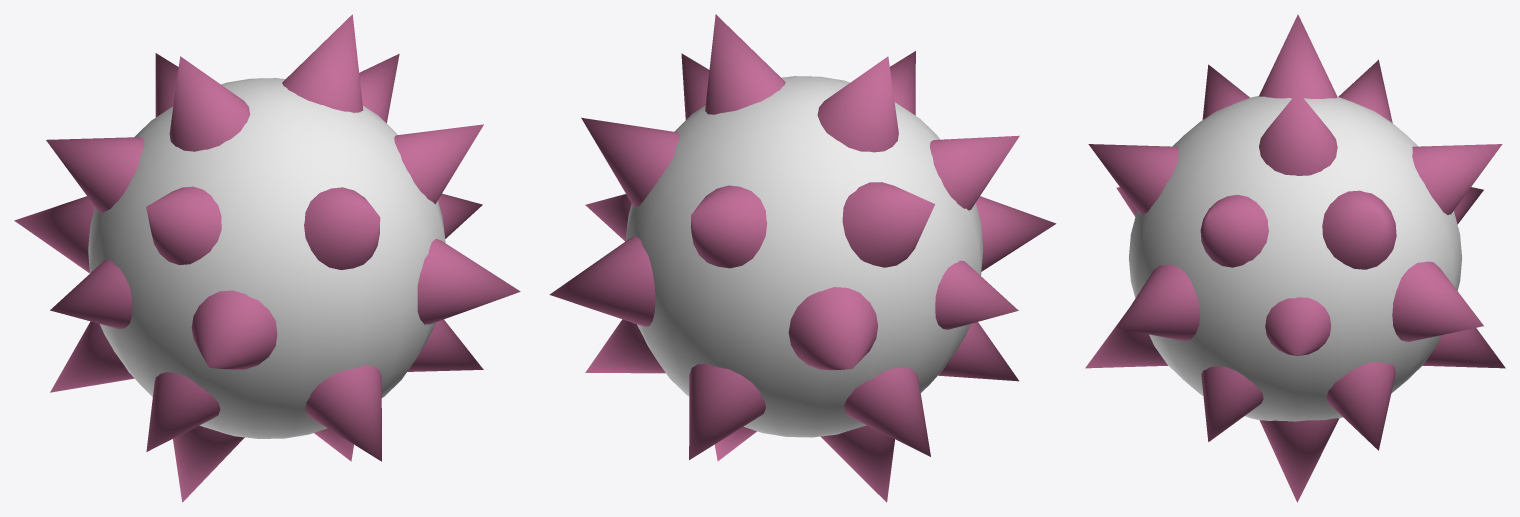
File: Withdrawal_1.fbx
The picture shows the model from 3 angles, left to right: view 1: azimuth 30°, elevation 25°; view 2: azimuth 150°, elevation 25°; view 3: azimuth 270°, elevation 25°; orthographic projection. The views are drawn at different scales.
Parts seen in each view (by area): view 1: Withdrawal_1; view 2: Withdrawal_1; view 3: Withdrawal_1.
Part boxes in pixels (<box>): Withdrawal_1: <box>14,14,520,502</box>; Withdrawal_1: <box>549,14,1056,502</box>; Withdrawal_1: <box>1085,14,1505,502</box>.
Size of the model in its own units: 2.79 by 2.75 by 2.55.
